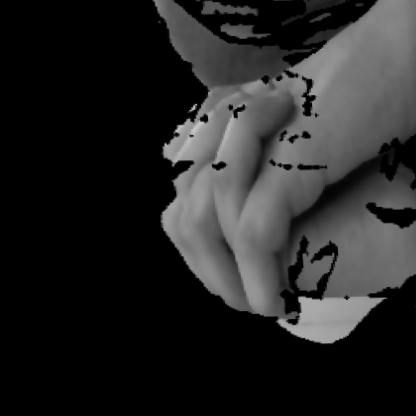prayer: (127, 27, 415, 367)
